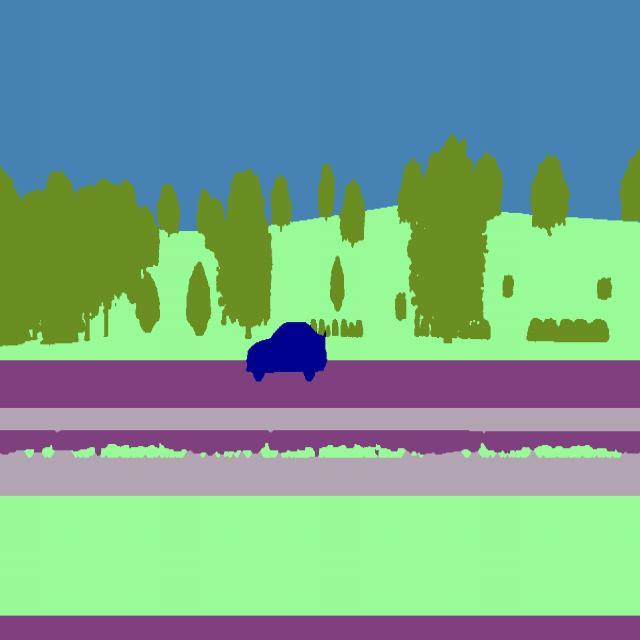safe: (244, 315, 330, 389)
